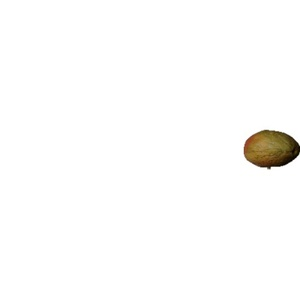mamão: (241, 125, 299, 170)
